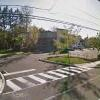Crosswalk: (7, 58, 100, 90)
